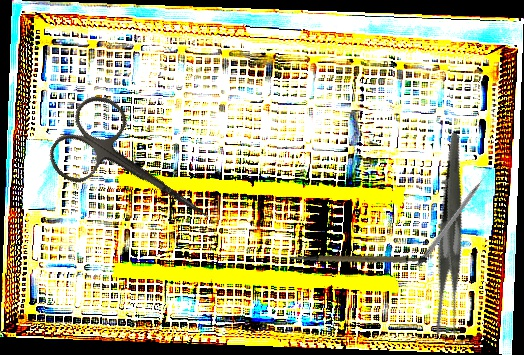Dressing Forceps: (382, 132, 523, 340)
Hook Surgical: (415, 165, 495, 269)
Iris Scissors: (41, 86, 233, 257)
Scalpel Handle: (287, 234, 429, 281)
